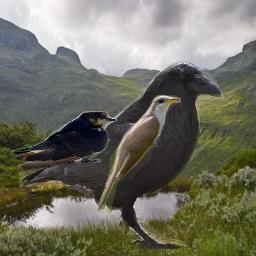Crow: (19, 60, 224, 249)
Cuckoo: (94, 95, 181, 215)
Swallow: (12, 111, 117, 170)
